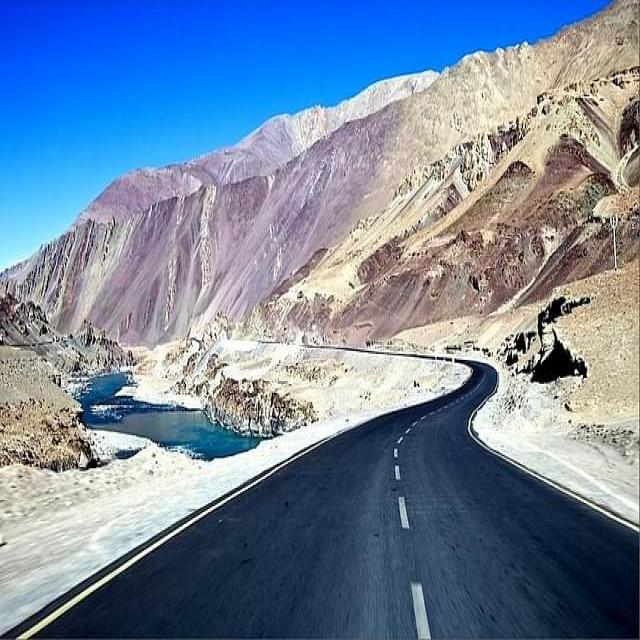Clean road: (3, 331, 640, 640)
